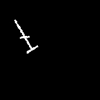double_crochet: (15, 20, 37, 52)
